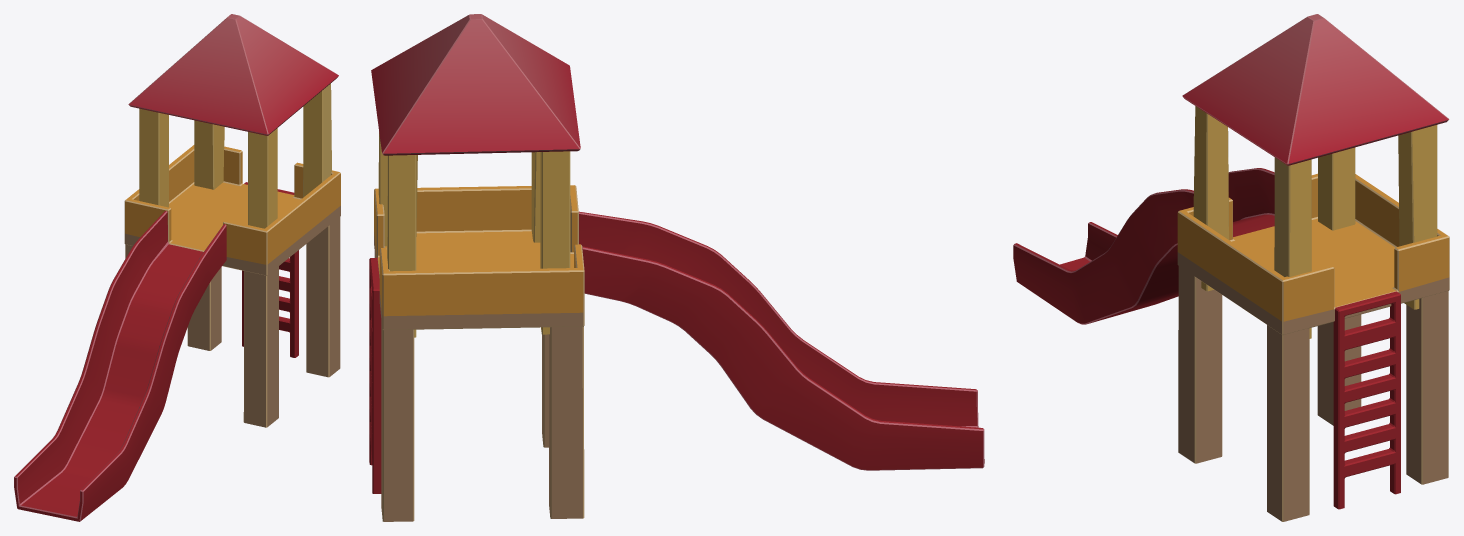
The model's file is slide.fbx.
3 renders of one model, left to right at view 1: azimuth 30°, elevation 25°; view 2: azimuth 150°, elevation 25°; view 3: azimuth 270°, elevation 25°, orthographic. The views are drawn at different scales.
Parts seen in each view (by area): view 1: Cube.001; view 2: Cube.001; view 3: Cube.001.
Boxes of the visible parts, x1=… form: Cube.001: x1=14, y1=14, x2=340, y2=521; Cube.001: x1=369, y1=14, x2=984, y2=521; Cube.001: x1=1013, y1=14, x2=1449, y2=521.
Bounding box in the file's own units: 913 × 785 × 693.
